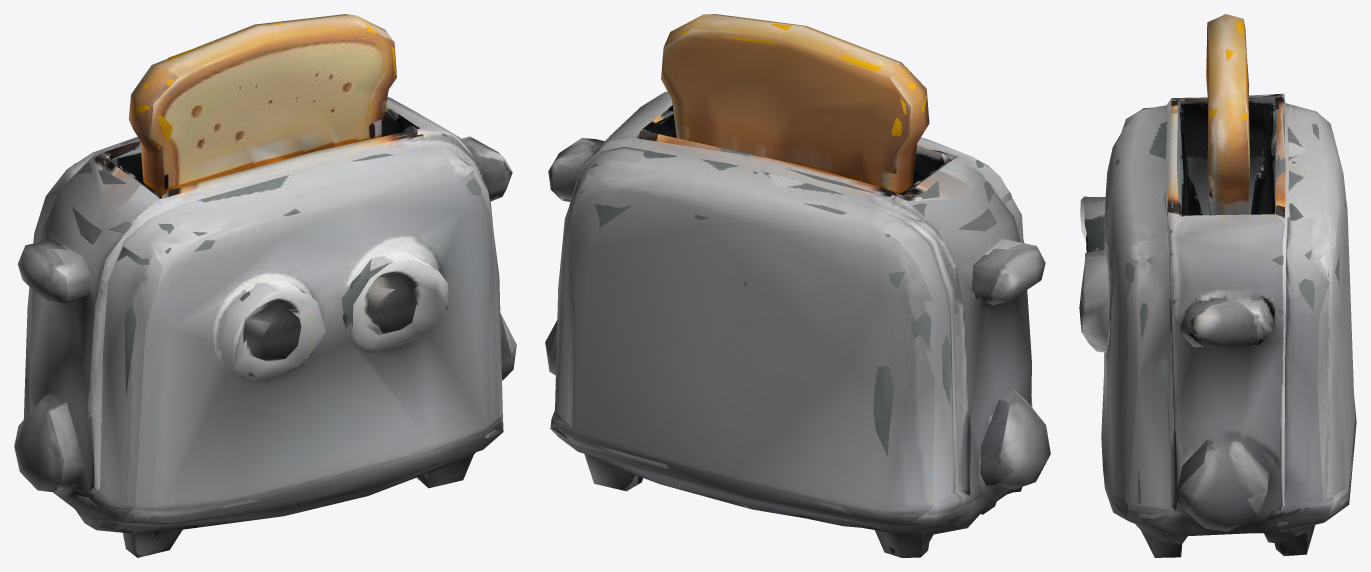
Rendered from toaster-low.glb.
The picture shows the model from 3 angles, left to right: view 1: azimuth 30°, elevation 25°; view 2: azimuth 150°, elevation 25°; view 3: azimuth 270°, elevation 25°; orthographic projection. The views are drawn at different scales.
Parts seen in each view (by area): view 1: toaster_LOD1; view 2: toaster_LOD1; view 3: toaster_LOD1.
Part boxes in pixels (left/top/right/bottom): toaster_LOD1: left=14, top=14, right=516, bottom=557; toaster_LOD1: left=545, top=14, right=1050, bottom=557; toaster_LOD1: left=1079, top=14, right=1356, bottom=557.
Size of the model in its own units: 0.995 by 0.9108 by 0.5226.
1 material, 1 textured.
